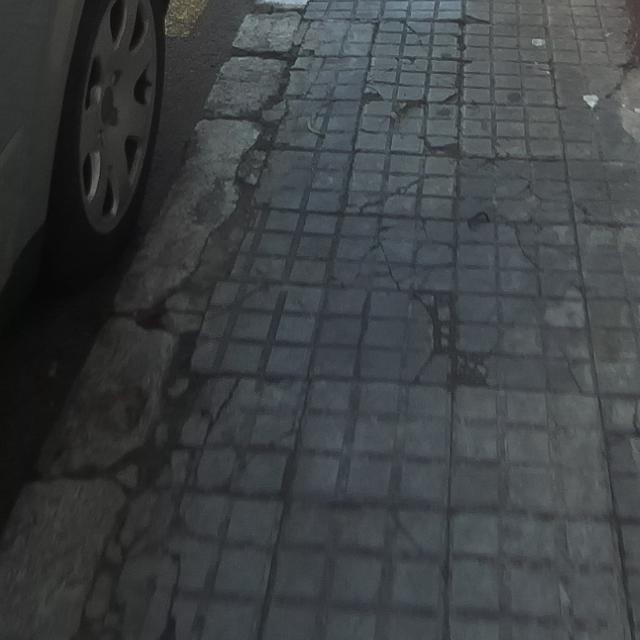calcada_quebrada: (402, 288, 496, 390), (189, 375, 262, 492), (348, 171, 457, 216), (348, 217, 408, 292), (150, 542, 192, 640), (542, 327, 592, 397), (266, 377, 312, 451), (362, 87, 463, 120), (502, 215, 554, 273), (435, 32, 473, 87), (568, 201, 635, 232), (601, 394, 640, 436), (377, 17, 428, 49), (415, 130, 465, 161), (511, 172, 549, 212), (434, 7, 494, 29), (468, 145, 514, 172), (320, 55, 368, 71), (396, 49, 424, 75), (568, 281, 599, 303), (465, 97, 485, 121), (345, 17, 377, 29)
